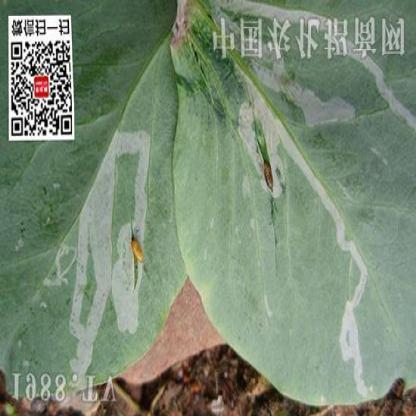whorl-maggot: (260, 152, 280, 196), (127, 232, 148, 270)
